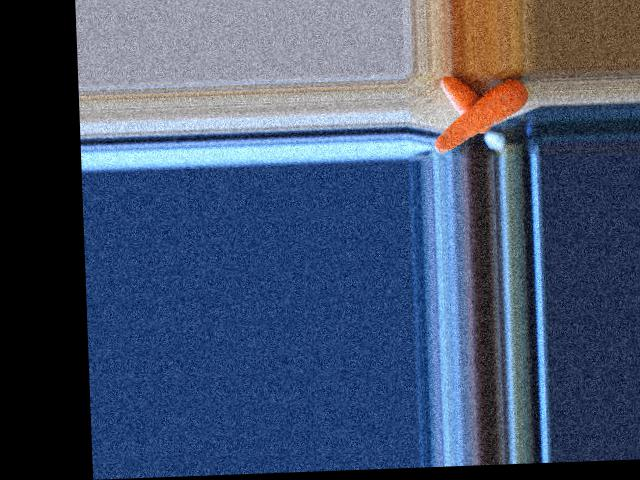carrot: (443, 75, 493, 134)
